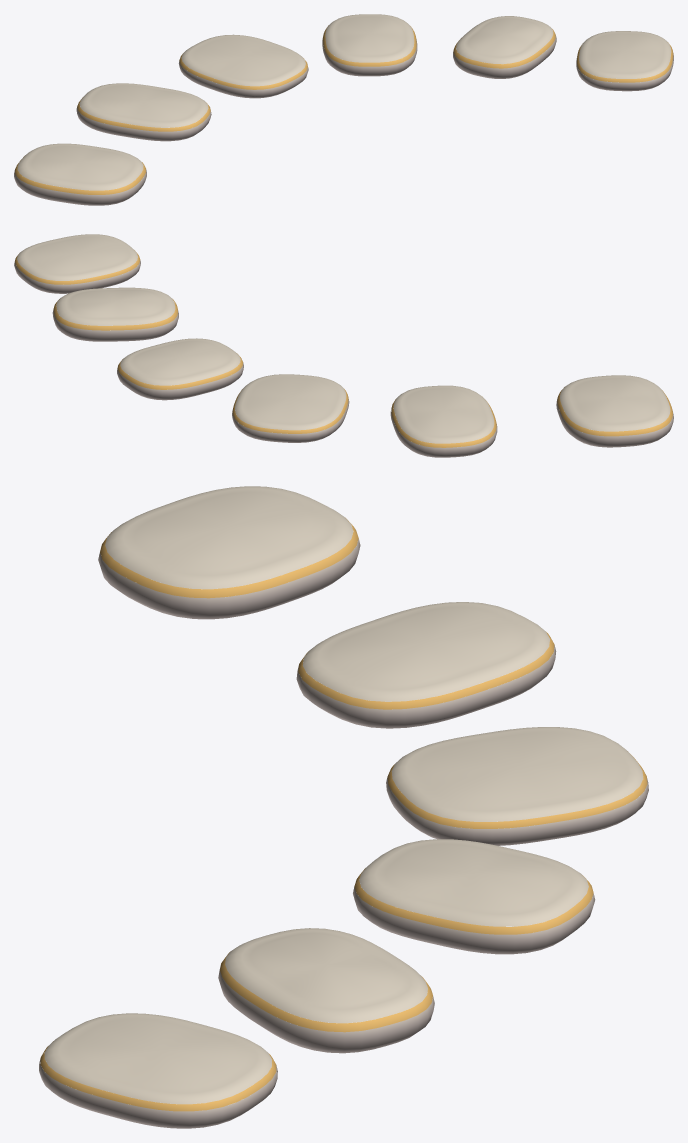
The model's file is stepping-stones.glb.
3 renders of one model, top to bottom at view 1: azimuth 30°, elevation 25°; view 2: azimuth 150°, elevation 25°; view 3: azimuth 270°, elevation 25°, orthographic. The views are drawn at different scales.
Visible parts, largest first — view 1: stepping-stones; view 2: stepping-stones; view 3: stepping-stones.
Part boxes in pixels (bbox=[...]): stepping-stones: bbox=[14, 14, 673, 205]; stepping-stones: bbox=[14, 234, 673, 457]; stepping-stones: bbox=[39, 486, 648, 1128].
Bounding box in the file's own units: 4.8 × 0.1691 × 2.01.
